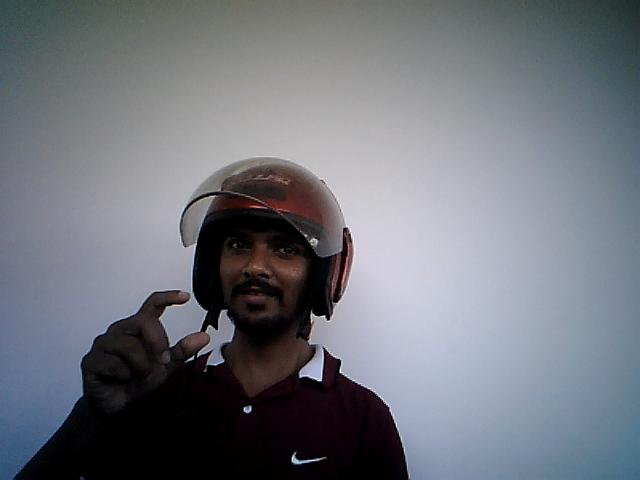helmet: (182, 156, 355, 341)
